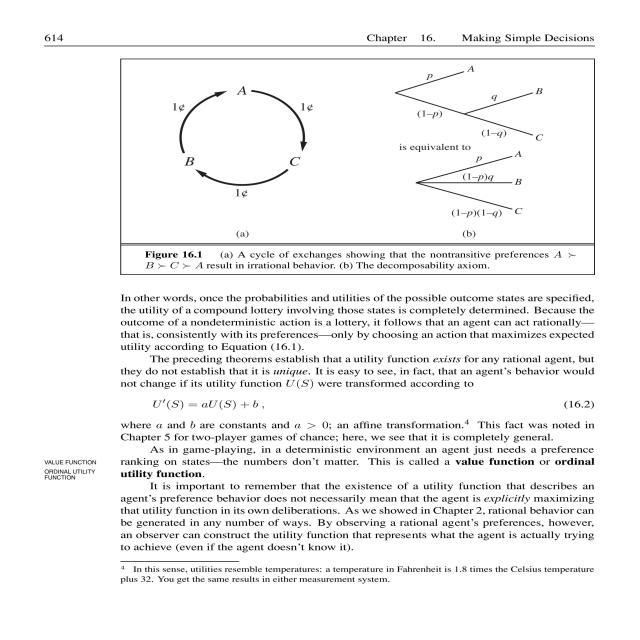diagram: (121, 62, 600, 295)
